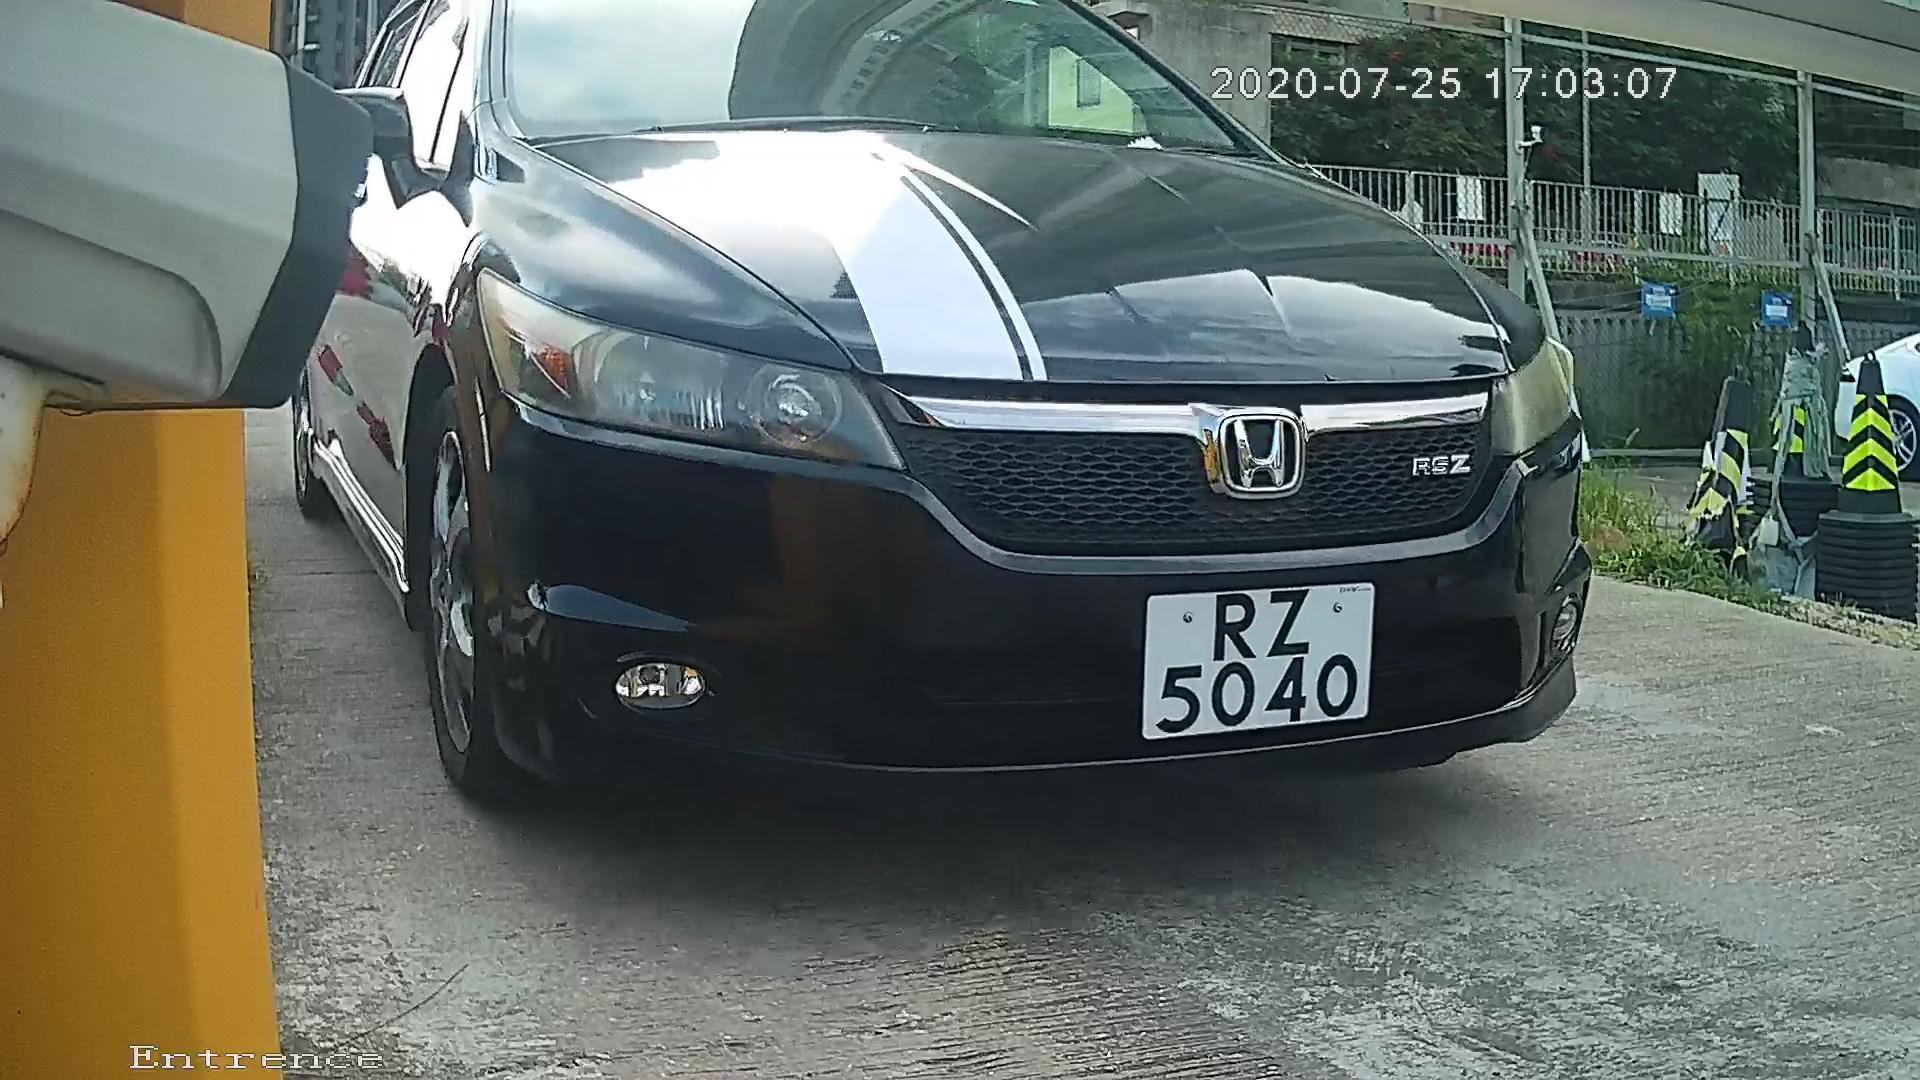Car: (155, 1, 1766, 883)
License Plate: (1106, 565, 1389, 757)
